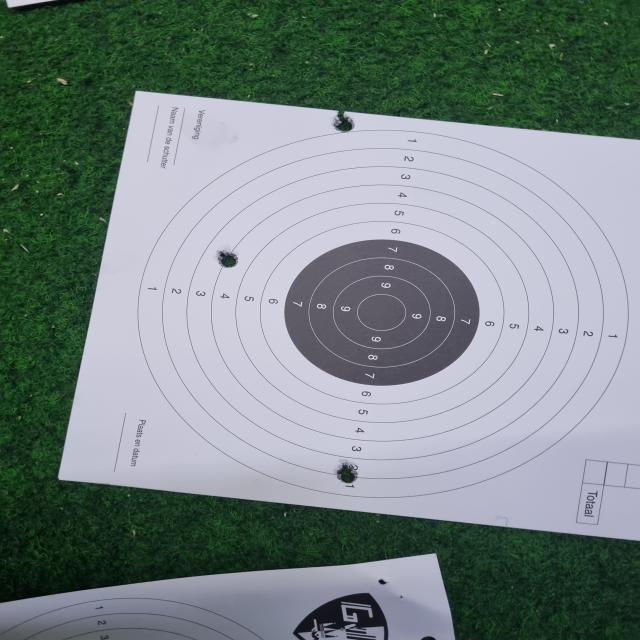3: (334, 459, 357, 483)
5: (216, 250, 238, 268)
Black Contour: (284, 236, 482, 382)
Target: (134, 129, 638, 499)
hole: (332, 110, 354, 133)
